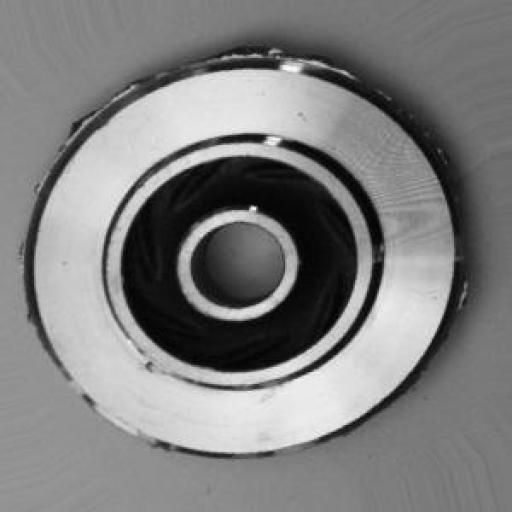defect: (38, 18, 487, 468)
